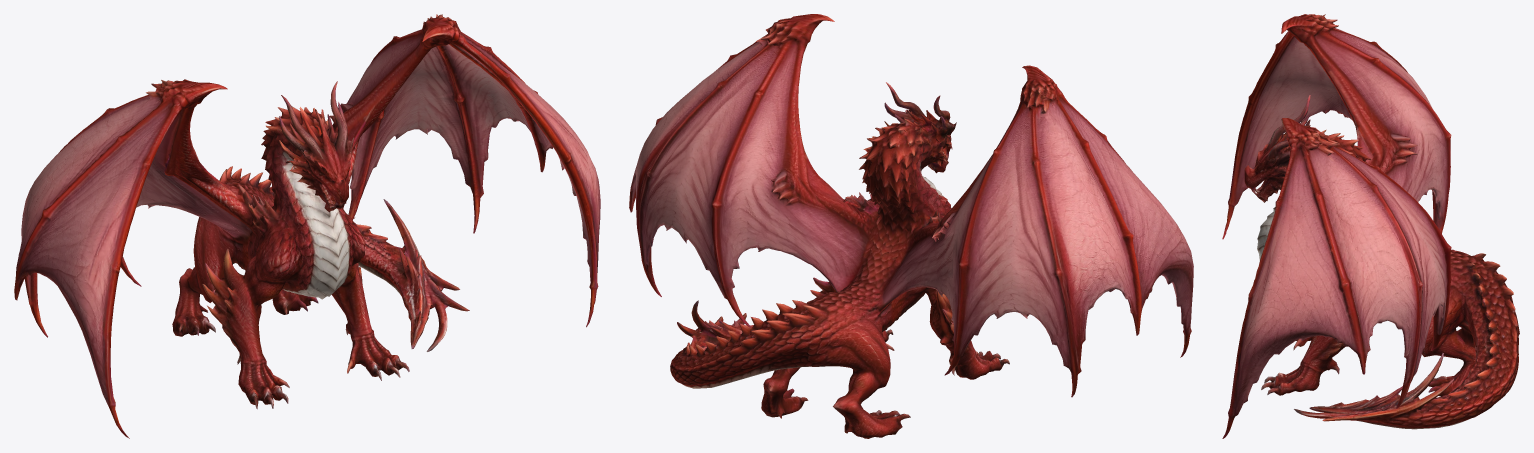
The model's file is dragon.glb.
3 views of the same model, side by side, from view 1: azimuth 30°, elevation 25°; view 2: azimuth 150°, elevation 25°; view 3: azimuth 270°, elevation 25° (orthographic). The views are drawn at different scales.
Visible parts, largest first — view 1: Mesh_Default; view 2: Mesh_Default; view 3: Mesh_Default.
Boxes of the visible parts, x1=… form: Mesh_Default: x1=14, y1=14, x2=600, y2=438; Mesh_Default: x1=629, y1=14, x2=1193, y2=438; Mesh_Default: x1=1222, y1=14, x2=1519, y2=438.
Size of the model in its own units: 1.9 by 1.13 by 1.03.
Materials: 1 (1 with a texture image).
